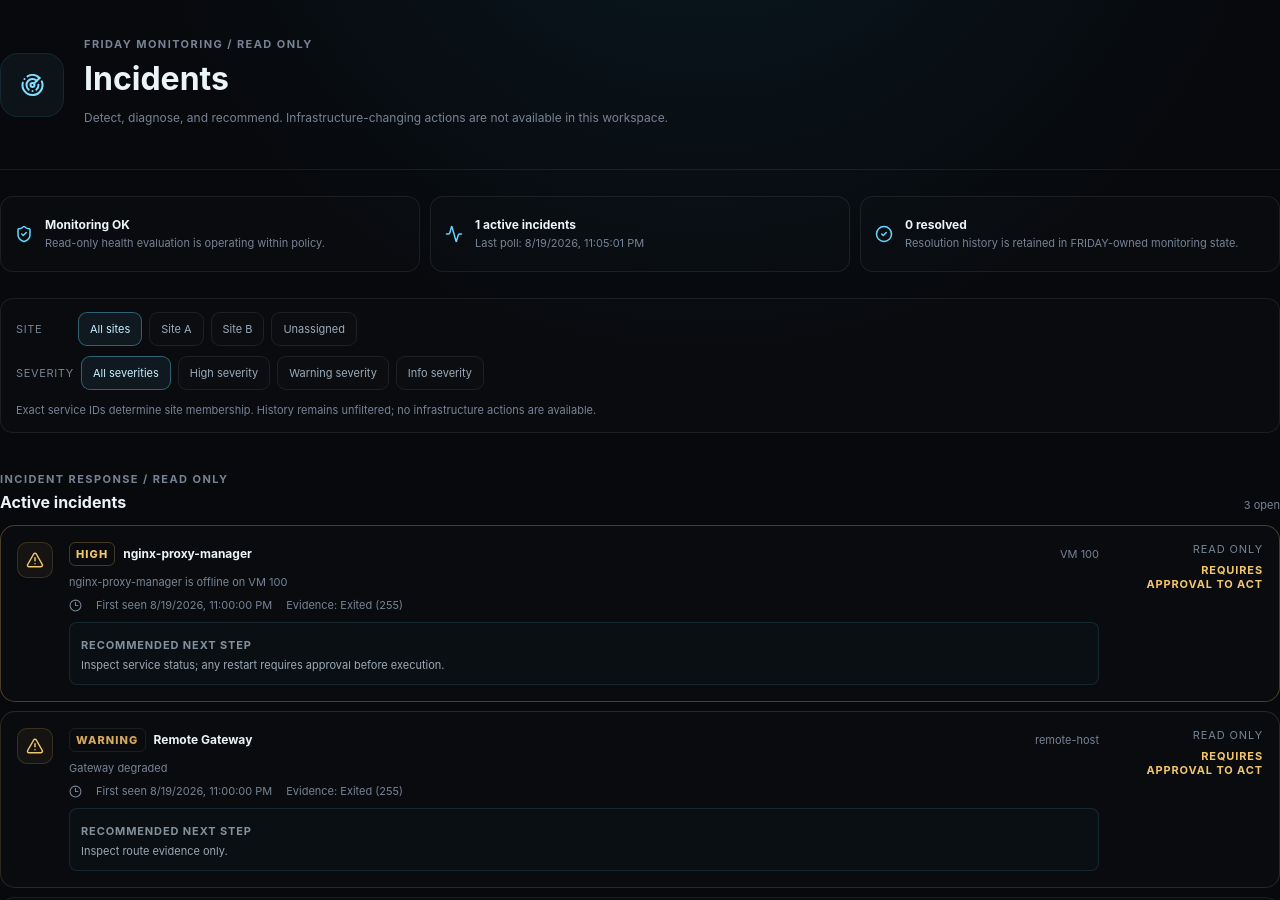
Test: Read-only incident site and severity filters › filters incident cards by exact service/site attribution and severity
Click the button "Site B".
click(237, 329)  # box [210, 312, 264, 346]
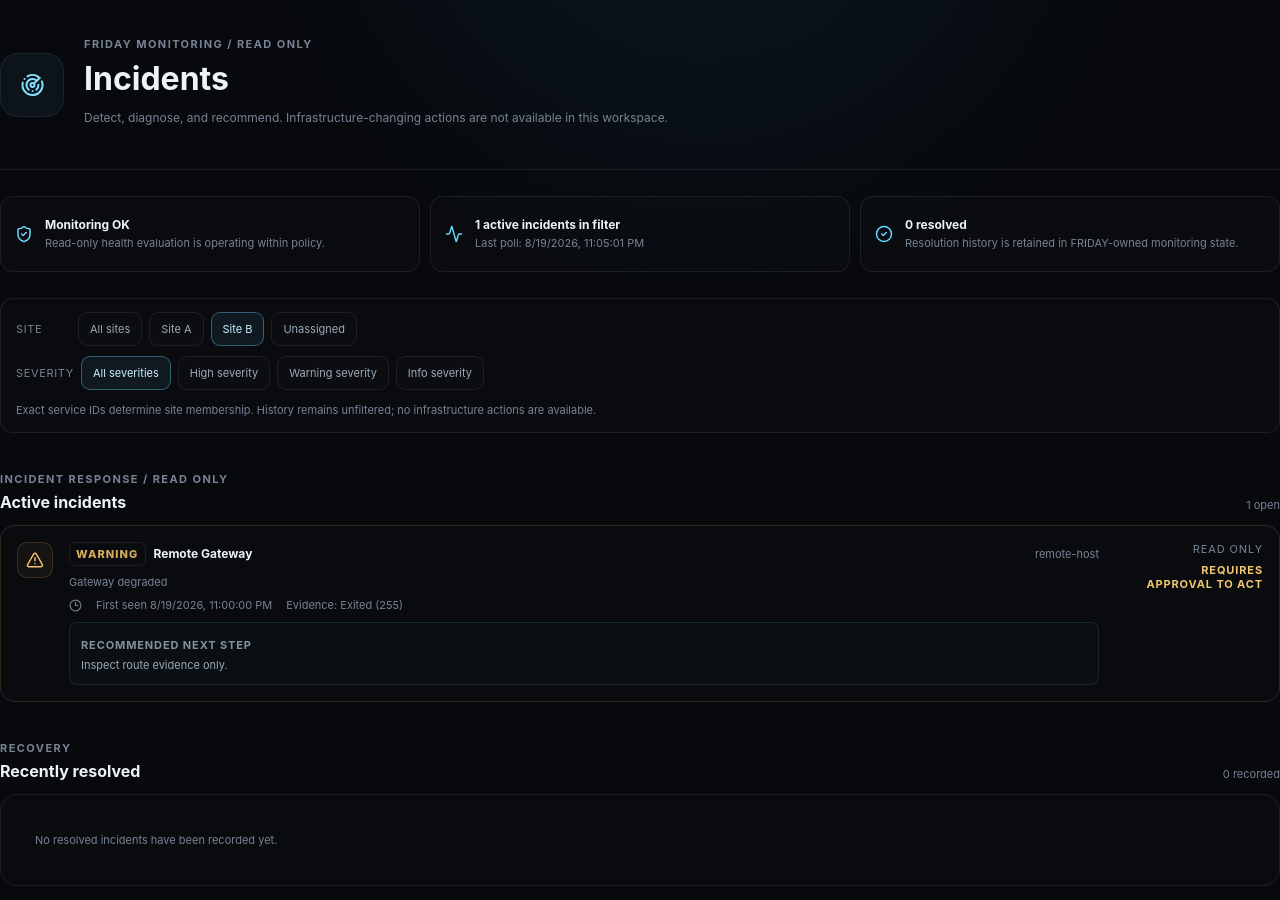
Expected: the text "Remote Gateway" is shown, [154, 546, 252, 561]
Expected: the text "nginx-proxy-manager" is not shown
Click the button "High severity".
click(224, 373)  # box [178, 356, 270, 390]
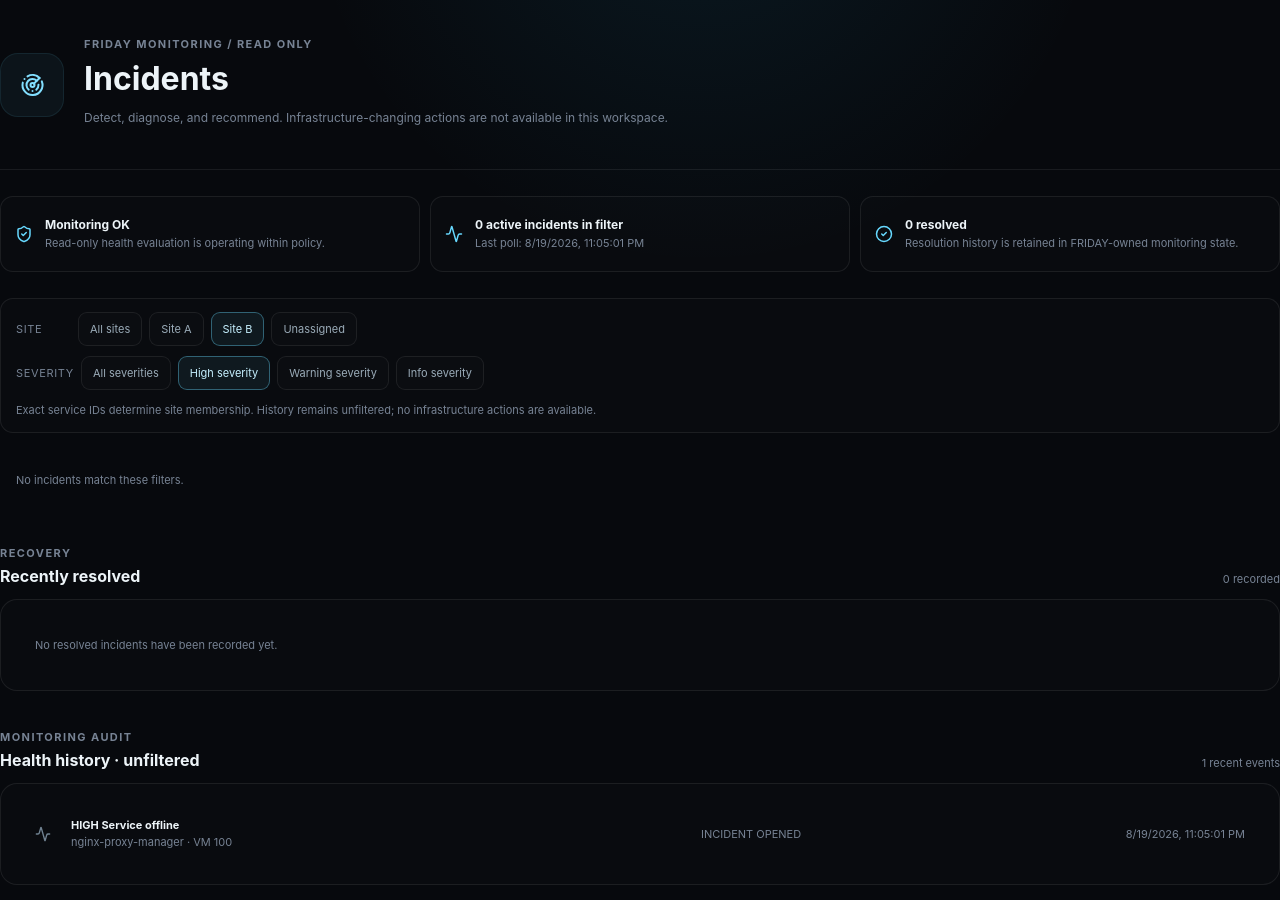
Expected: the text "No incidents match these filters." is shown, [16, 472, 184, 486]
Click the button "Warning severity".
click(333, 373)  # box [277, 356, 389, 390]
(page scrolled)
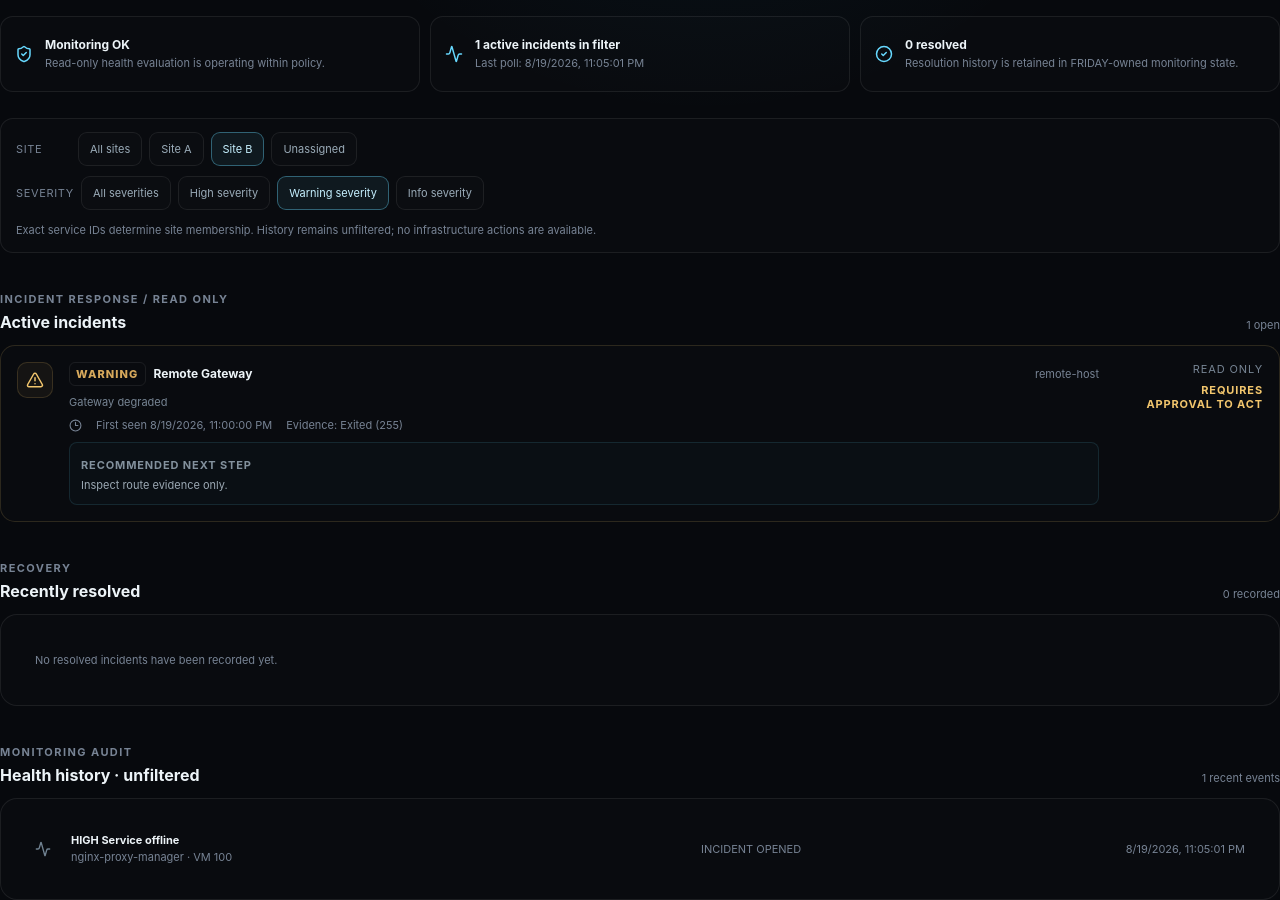
Expected: the heading "Health history · unfiltered" is shown, [0, 764, 200, 784]
Expected: the text "Remote Gateway" is shown, [154, 366, 252, 381]
